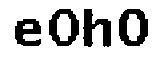0: (47, 3, 82, 53), (115, 6, 150, 53)
e: (8, 14, 44, 52)
h: (81, 6, 114, 54)
